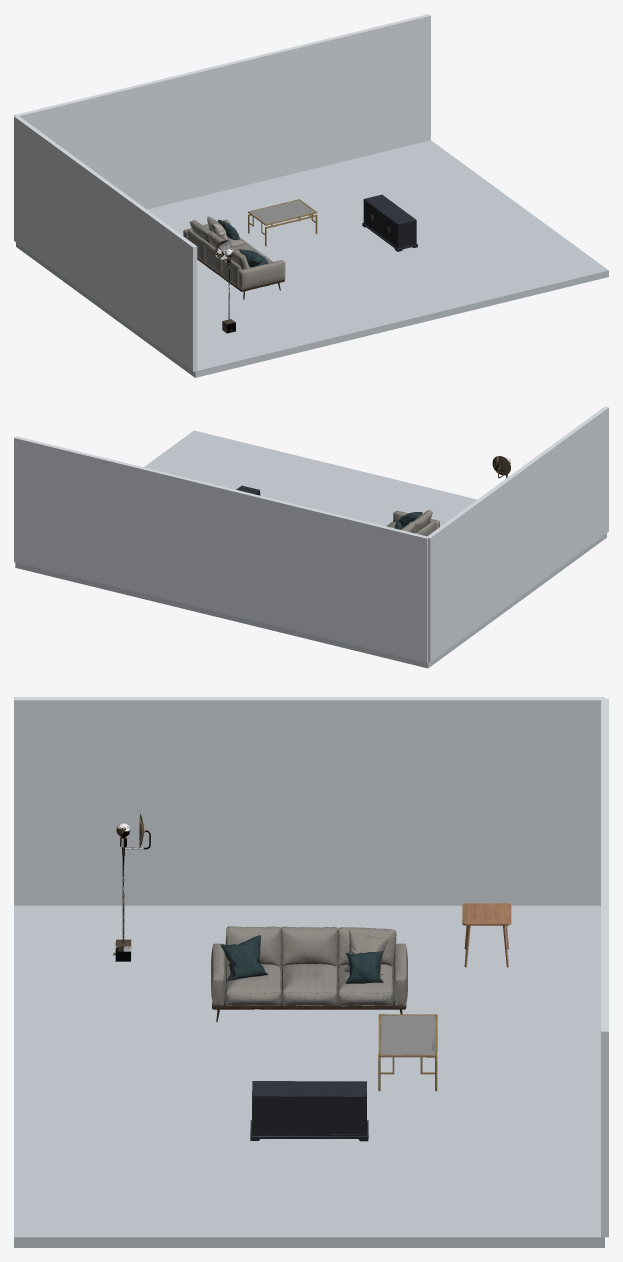
The model's file is stage3.glb.
3 renders of one model, top to bottom at view 1: azimuth 30°, elevation 25°; view 2: azimuth 150°, elevation 25°; view 3: azimuth 270°, elevation 25°, orthographic. The views are drawn at different scales.
Visible parts, largest first — view 1: Floor, wall_back, wall_left, raw_model, raw_model.002, raw_model.001, raw_model.004; view 2: wall_back, wall_left, Floor, raw_model; view 3: Floor, wall_left, raw_model, raw_model.002, wall_back, raw_model.001, raw_model.003, raw_model.004.
Part boxes in pixels (<box>): Floor: <box>16,140,608,377</box>; wall_back: <box>15,14,430,209</box>; wall_left: <box>14,116,197,371</box>; raw_model: <box>183,216,285,299</box>; raw_model.002: <box>362,194,417,251</box>; raw_model.001: <box>248,199,317,246</box>; raw_model.004: <box>215,240,235,333</box>; wall_back: <box>14,436,428,662</box>; wall_left: <box>427,406,608,662</box>; Floor: <box>15,430,606,668</box>; raw_model: <box>386,510,439,536</box>; Floor: <box>14,905,604,1247</box>; wall_left: <box>14,697,604,905</box>; raw_model: <box>211,926,407,1021</box>; raw_model.002: <box>250,1081,368,1141</box>; wall_back: <box>601,698,608,1237</box>; raw_model.001: <box>378,1014,437,1091</box>; raw_model.003: <box>462,903,511,967</box>; raw_model.004: <box>113,814,150,961</box>.
Size of the model in its own units: 8.04 by 2.42 by 6.04.
7 materials, 5 textured.
